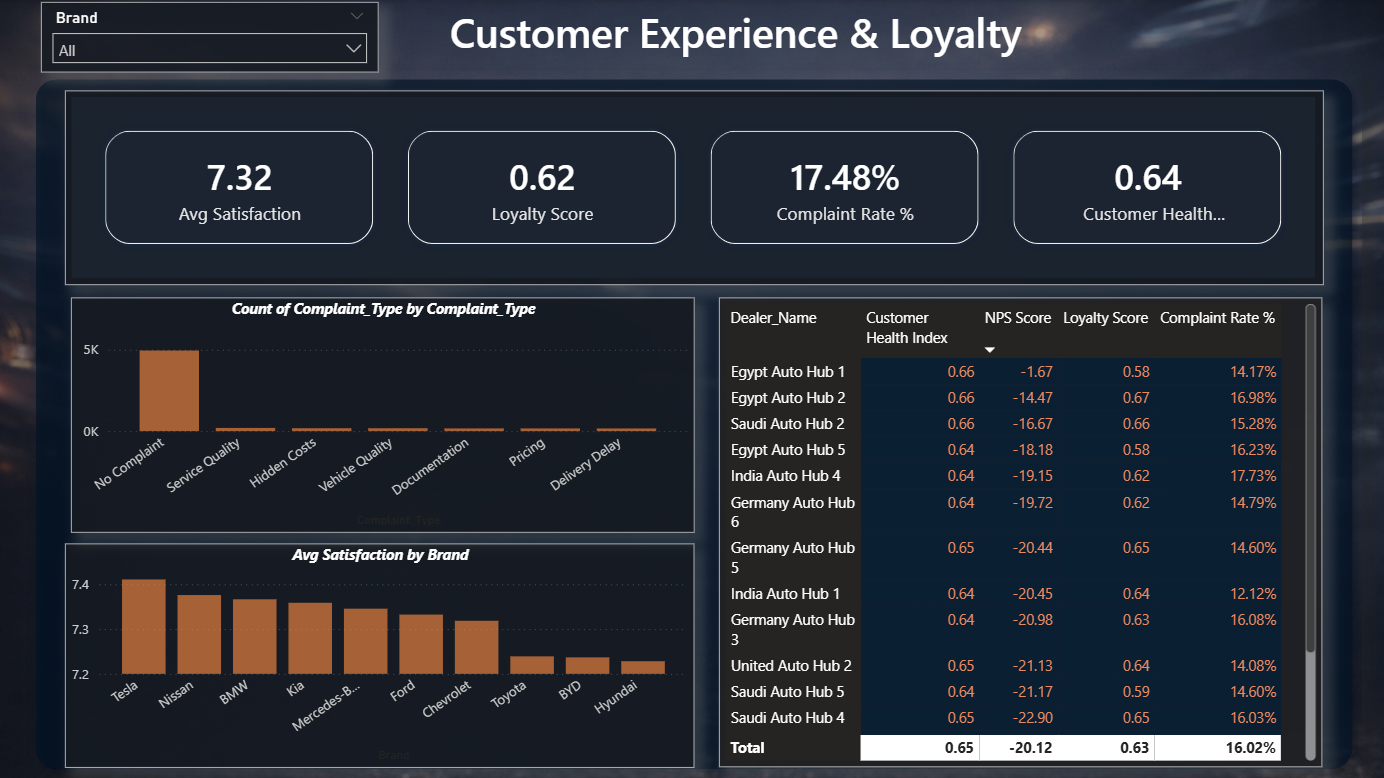

The page's visual inventory and layout, read from the dashboard file:
{"tool":"powerbi","page":{"name":"Customer Experience & Loyalty","canvas":[1280,720],"ordinal":2},"visuals":[{"type":"shape","box":[27.1,64.3,1227.1,651.4],"z":0},{"type":"textbox","box":[385.7,0,587.1,67.1],"z":1000},{"type":"cardVisual","fields":{"Data":["_Measure customer Experience.Avg Satisfaction","_Measure customer Experience.Loyalty Score","_Measure customer Experience.Complaint Rate %","_Measure customer Experience.Customer Health Index"]},"box":[62.9,84.3,1155.7,178.6],"z":2000},{"type":"columnChart","fields":{"Category":["DimCars.Brand"],"Y":["_Measure customer Experience.Avg Satisfaction"]},"box":[62.9,500,578,205.7],"z":3000},{"type":"slicer","fields":{"Values":["DimCars.Brand"]},"box":[34.3,0,310,64.3],"z":4000},{"type":"pivotTable","fields":{"Rows":["DimDealers.Dealer_Name"],"Values":["_Measure customer Experience.Customer Health Index","_Measure customer Experience.NPS Score","_Measure customer Experience.Loyalty Score","_Measure customer Experience.Complaint Rate %"]},"box":[664.3,274.3,554.3,431.4],"z":5000},{"type":"columnChart","fields":{"Category":["FactSatisfaction.Complaint_Type"],"Y":["CountNonNull(FactSatisfaction.Complaint_Type)"]},"box":[68.6,274.3,572.9,215.7],"z":6000}]}

Visuals, with their boxes in screenshot pixels (x1, y1, x2, y2), scaled from the page's 1280x720 canvas onto the 1384x778 screenshot:
shape: bbox(29, 69, 1356, 773)
textbox: bbox(417, 0, 1052, 73)
cardVisual - _Measure customer Experience.Avg Satisfaction x _Measure customer Experience.Loyalty Score: bbox(68, 91, 1318, 284)
columnChart - DimCars.Brand x _Measure customer Experience.Avg Satisfaction: bbox(68, 540, 693, 763)
slicer - DimCars.Brand: bbox(37, 0, 372, 69)
pivotTable - DimDealers.Dealer_Name x _Measure customer Experience.Customer Health Index: bbox(718, 296, 1318, 763)
columnChart - FactSatisfaction.Complaint_Type x CountNonNull(FactSatisfaction.Complaint_Type): bbox(74, 296, 694, 529)
